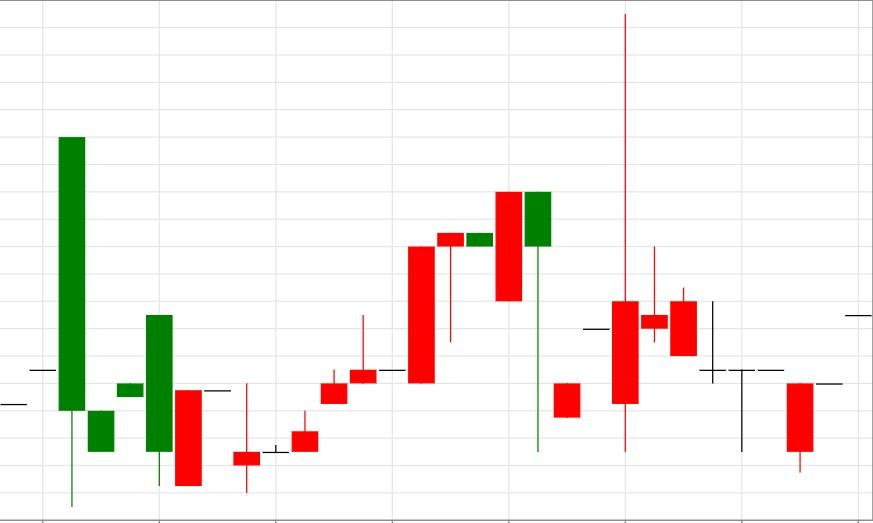hanging_man_fall: (233, 191, 552, 494)
